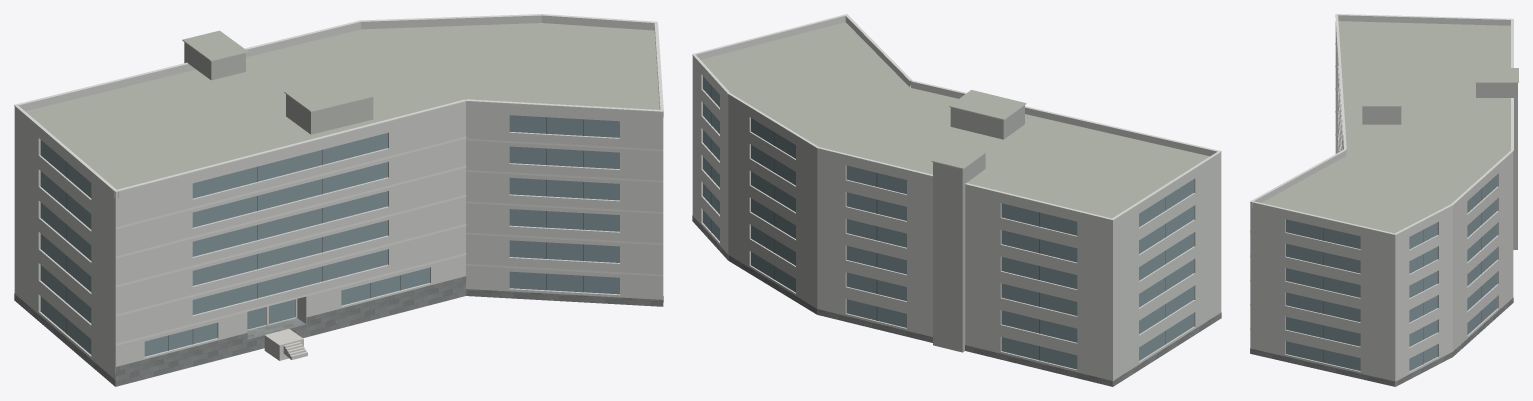
The picture shows the model from 3 angles, left to right: view 1: azimuth 30°, elevation 25°; view 2: azimuth 150°, elevation 25°; view 3: azimuth 270°, elevation 25°; orthographic projection. The views are drawn at different scales.
Parts seen in each view (by area): view 1: vetHospital__wall, vetHospital__roof, vetHospital__glass, vetHospital__trim, vetHospital__parapet, vetHospital__base, vetHospital__wall2, vetHospital__entranceStair, vetHospital__frame; view 2: vetHospital__wall, vetHospital__roof, vetHospital__glass, vetHospital__wall2, vetHospital__parapet, vetHospital__base, vetHospital__trim, vetHospital__frame; view 3: vetHospital__roof, vetHospital__wall, vetHospital__glass, vetHospital__parapet, vetHospital__trim, vetHospital__wall2, vetHospital__base.
Part boxes in pixels (box(x1,y1,x2,y2)): vetHospital__wall: box(14, 108, 663, 386); vetHospital__roof: box(25, 23, 659, 386); vetHospital__glass: box(40, 115, 619, 356); vetHospital__trim: box(14, 14, 663, 345); vetHospital__parapet: box(14, 15, 663, 198); vetHospital__base: box(14, 276, 663, 386); vetHospital__wall2: box(184, 42, 373, 134); vetHospital__entranceStair: box(264, 329, 307, 360); vetHospital__frame: box(66, 117, 583, 350); vetHospital__wall: box(692, 61, 1221, 386); vetHospital__roof: box(701, 22, 1209, 218); vetHospital__glass: box(703, 76, 1193, 369); vetHospital__wall2: box(933, 105, 1024, 352); vetHospital__parapet: box(692, 15, 1221, 226); vetHospital__base: box(692, 215, 1221, 386); vetHospital__trim: box(692, 14, 1221, 220); vetHospital__frame: box(711, 86, 1165, 360); vetHospital__roof: box(1262, 21, 1518, 233); vetHospital__wall: box(1250, 22, 1513, 386); vetHospital__glass: box(1286, 175, 1497, 371); vetHospital__parapet: box(1250, 15, 1513, 240); vetHospital__trim: box(1250, 14, 1518, 329); vetHospital__wall2: box(1362, 83, 1517, 249); vetHospital__base: box(1250, 297, 1513, 386).
Bounding box in the file's own units: 69.95 × 25.17 × 36.
Materials: 10 (1 with a texture image).
